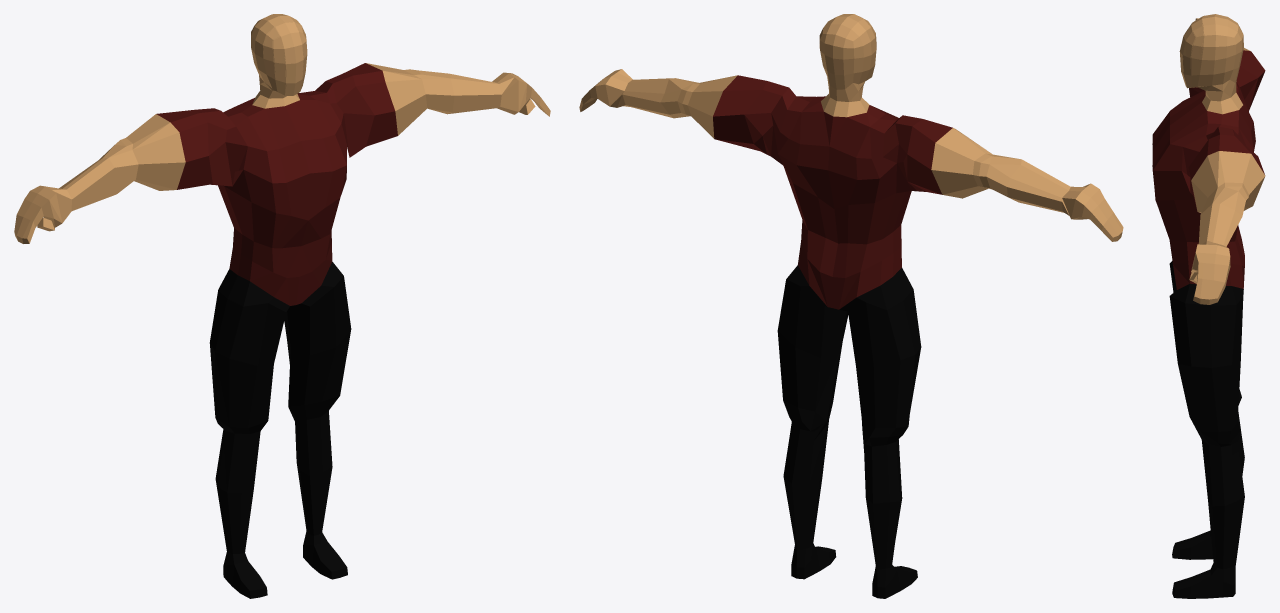
Rendered from angry_man_model.fbx.
3 renders of one model, left to right at view 1: azimuth 30°, elevation 25°; view 2: azimuth 150°, elevation 25°; view 3: azimuth 270°, elevation 25°, orthographic.
Visible parts, largest first — view 1: man.002; view 2: man.002; view 3: man.002.
Part boxes in pixels (left/top/right/bottom): man.002: left=14, top=14, right=550, bottom=598; man.002: left=579, top=14, right=1123, bottom=598; man.002: left=1152, top=14, right=1265, bottom=598.
Size of the model in its own units: 2.32 by 2.33 by 0.4274.
